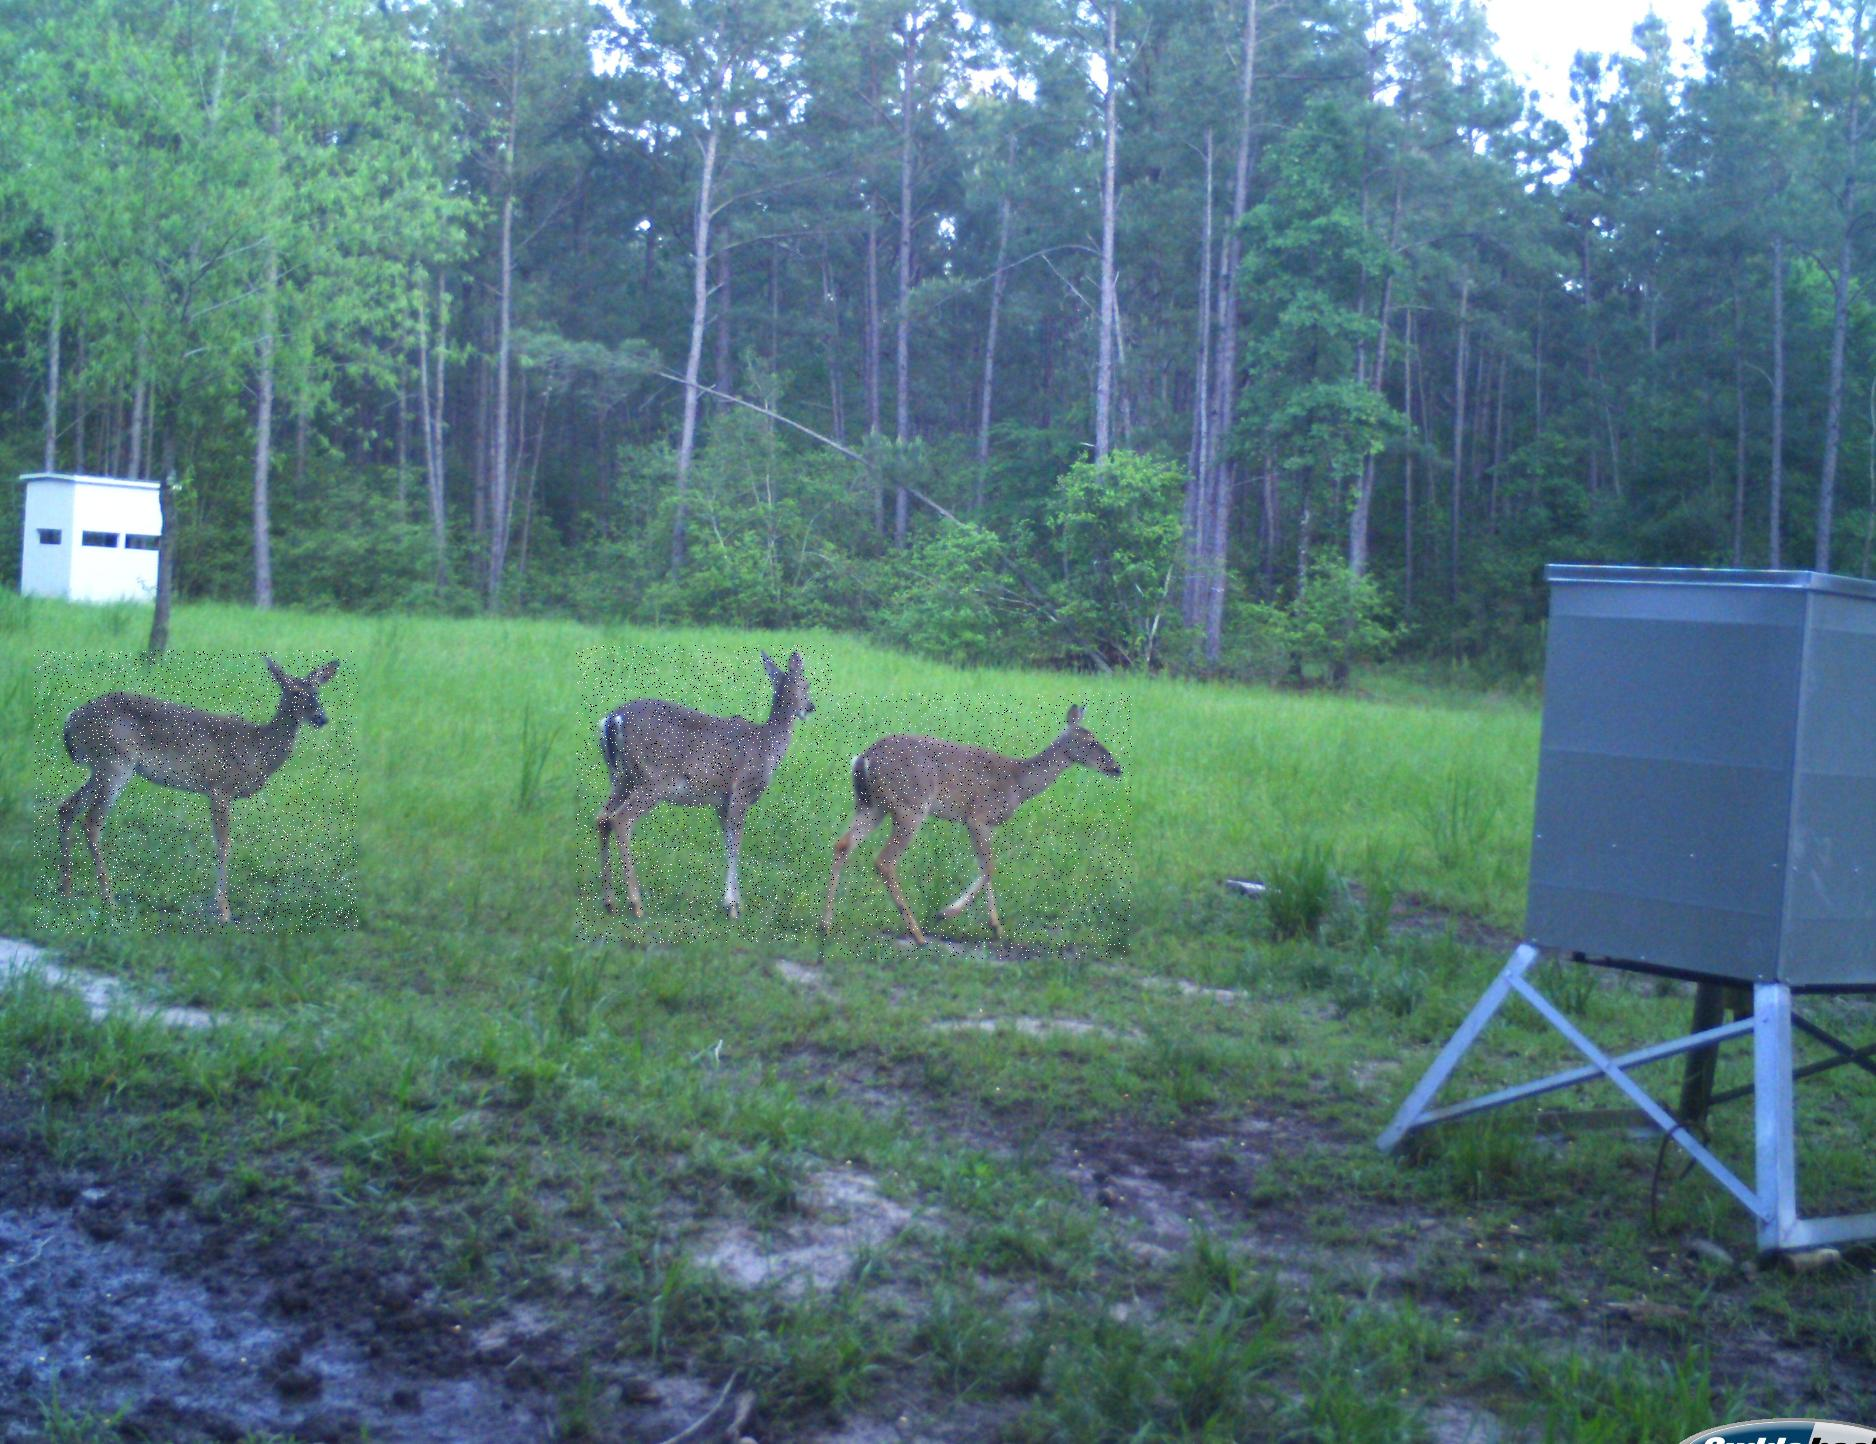Deer: (33, 649, 358, 934), (820, 693, 1131, 959), (576, 645, 833, 943)
